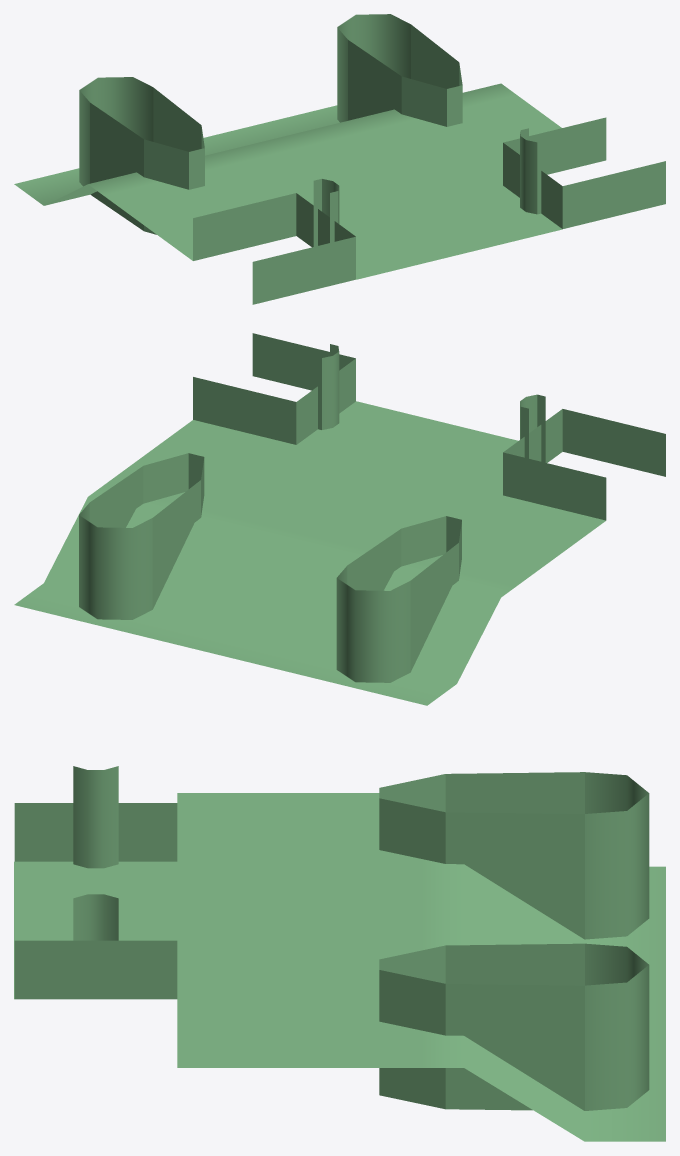
The model's file is Room_Door_16_B_COL.fbx.
The picture shows the model from 3 angles, top to bottom: view 1: azimuth 30°, elevation 25°; view 2: azimuth 150°, elevation 25°; view 3: azimuth 270°, elevation 25°; orthographic projection. The views are drawn at different scales.
Visible parts, largest first — view 1: Room_Door_16_B_COL; view 2: Room_Door_16_B_COL; view 3: Room_Door_16_B_COL.
Boxes of the visible parts, x1,y1,x2,y2 form: Room_Door_16_B_COL: (14,14,665,304); Room_Door_16_B_COL: (14,333,665,705); Room_Door_16_B_COL: (14,766,665,1141).
Bounding box in the file's own units: 1600 × 467 × 1603.
